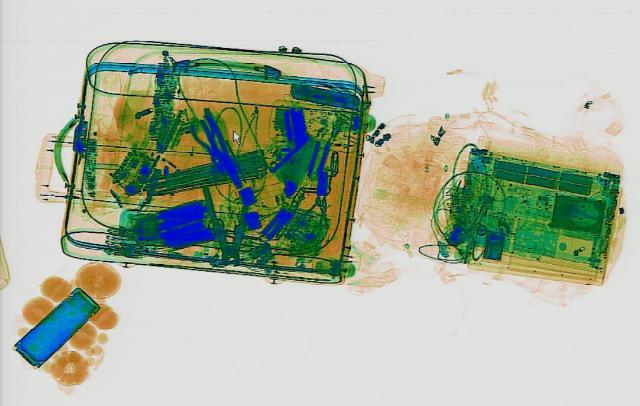Pliers: (197, 109, 249, 189), (200, 184, 250, 264), (188, 113, 228, 173)
